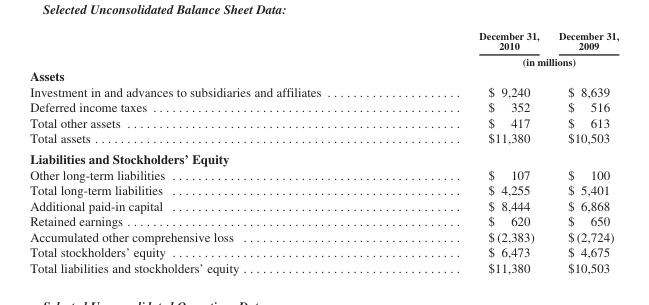table: (29, 29, 618, 274)
table column: (29, 29, 399, 274), (399, 29, 548, 274), (548, 29, 618, 274)
table column header: (29, 29, 618, 67)
table projected row header: (29, 148, 618, 166), (29, 67, 618, 83)
table row: (29, 29, 618, 53), (29, 130, 618, 148), (29, 148, 618, 166), (29, 67, 618, 83), (29, 83, 618, 99), (29, 114, 618, 130), (29, 181, 618, 197), (29, 212, 618, 228), (29, 243, 618, 259), (29, 99, 618, 114), (29, 166, 618, 181), (29, 197, 618, 212), (29, 228, 618, 243), (29, 259, 618, 274), (29, 53, 618, 67)
table spanning cell: (399, 53, 618, 67)
